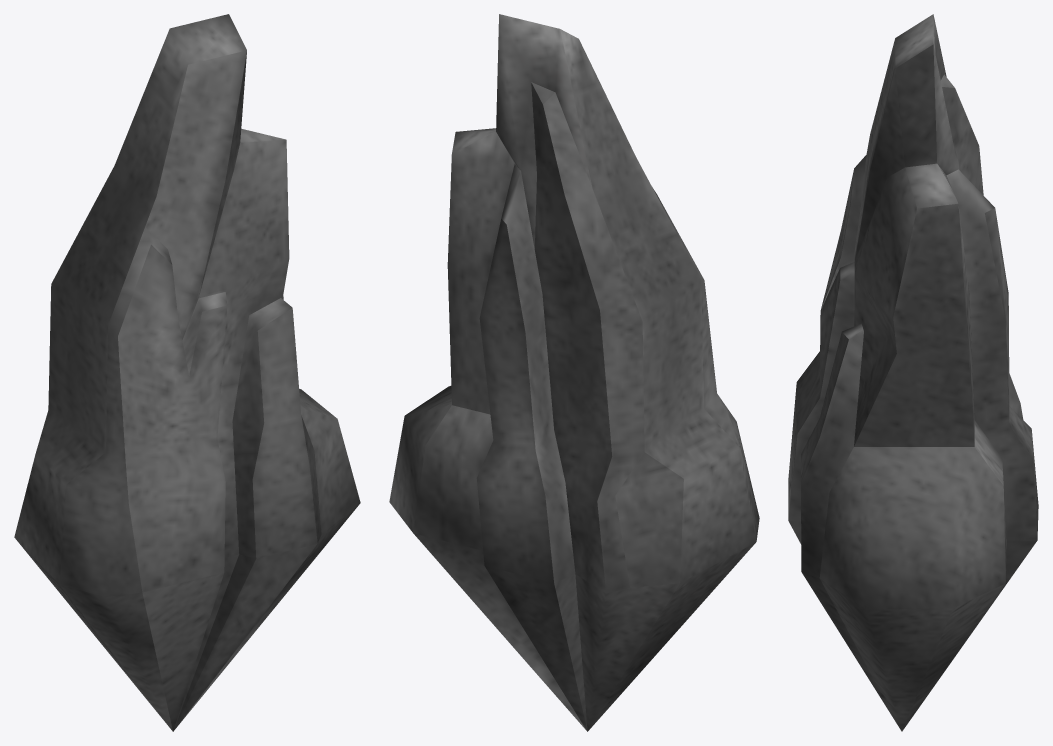
3 views of the same model, side by side, from view 1: azimuth 30°, elevation 25°; view 2: azimuth 150°, elevation 25°; view 3: azimuth 270°, elevation 25° (orthographic). The views are drawn at different scales.
Visible parts, largest first — view 1: rock_LOD0; view 2: rock_LOD0; view 3: rock_LOD0.
Boxes of the visible parts, <box> form: rock_LOD0: <box>14,14,360,731</box>; rock_LOD0: <box>389,14,759,731</box>; rock_LOD0: <box>788,14,1038,731</box>.
Size of what is drawn, in the model's own units: 233 by 496 by 156.
